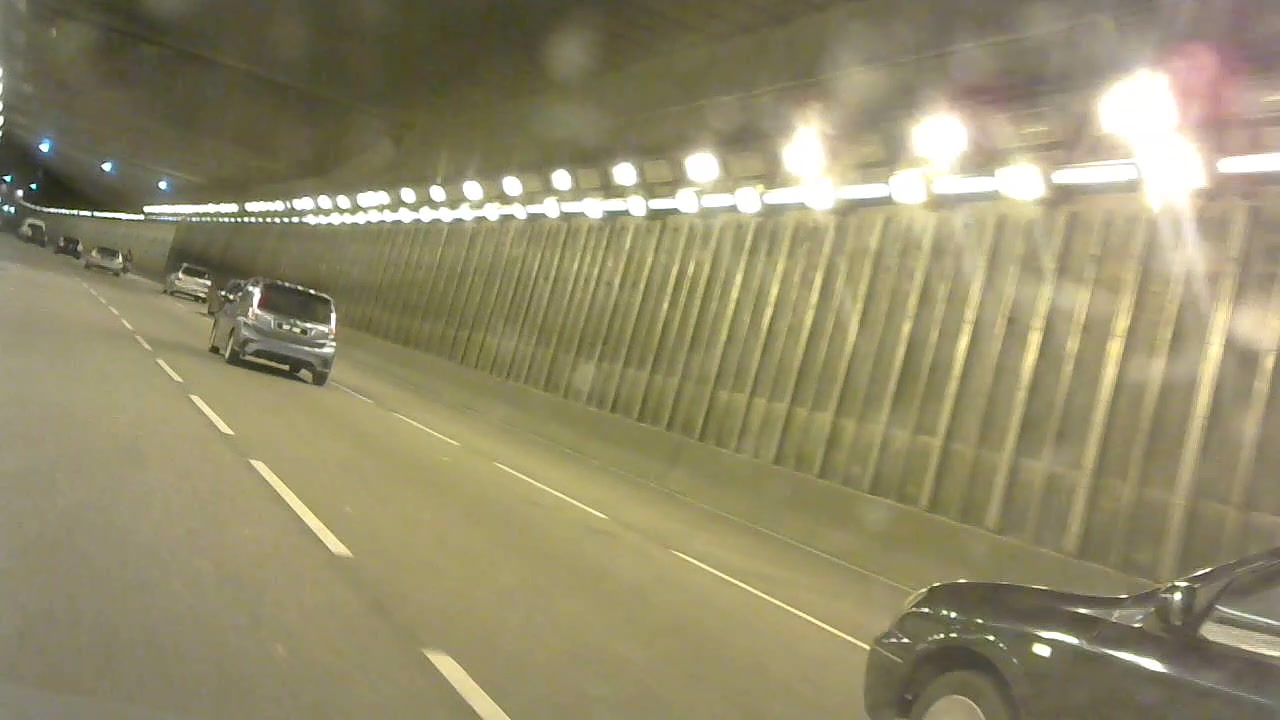Car: (835, 519, 1280, 715), (212, 279, 349, 393), (163, 259, 218, 302), (83, 246, 124, 279), (21, 215, 49, 250), (58, 234, 82, 259)
